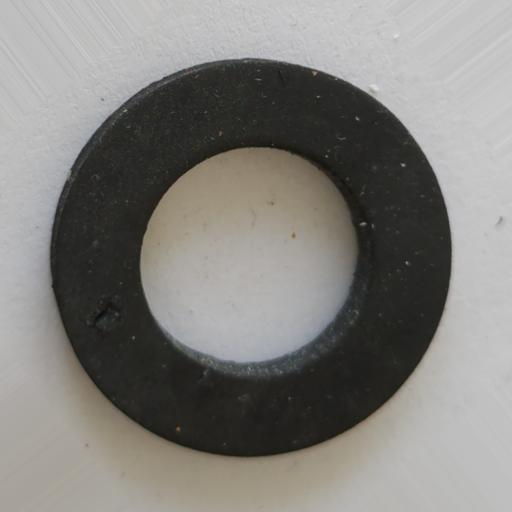defect: (84, 293, 126, 338)
